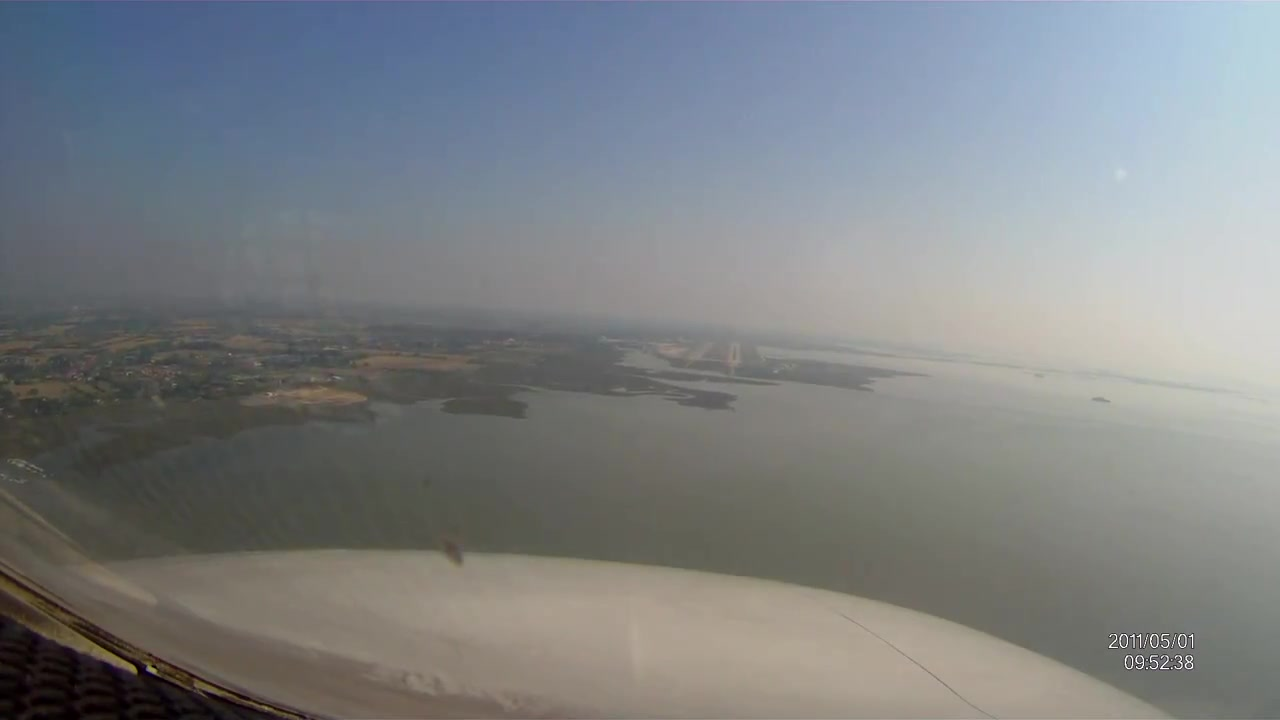runway: (689, 341, 714, 360), (726, 341, 743, 364)
